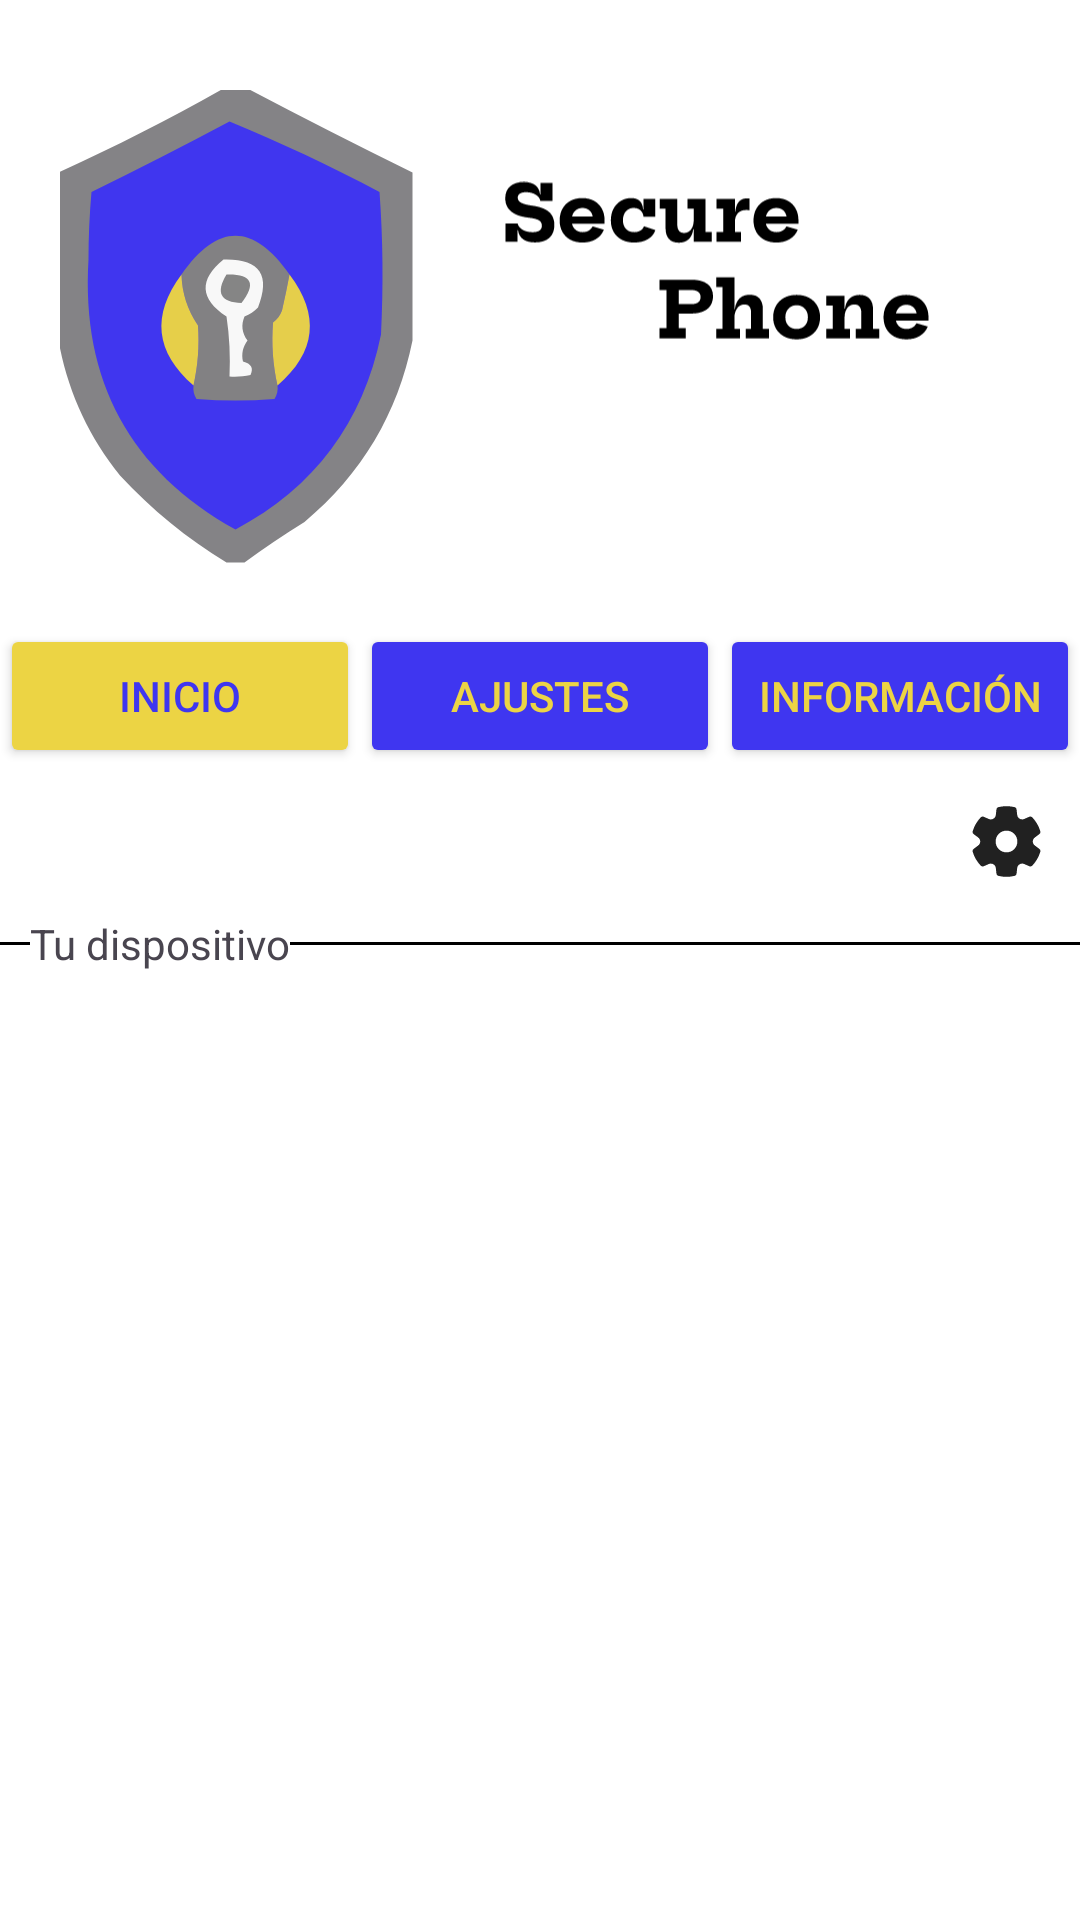

Screen size 1080w x 1920h. Icon name, then its center in pixels as point (x, y):
gear: point (1006, 841)
